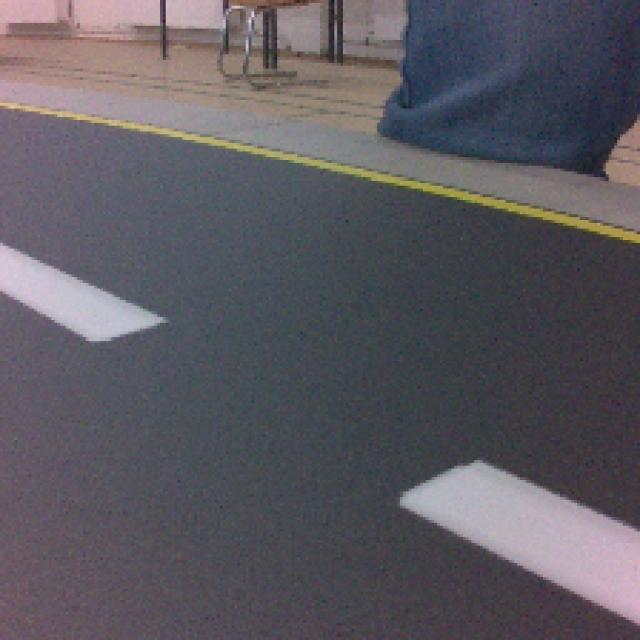Pedestrian crosswalk: (396, 457, 640, 627), (0, 243, 164, 350)
